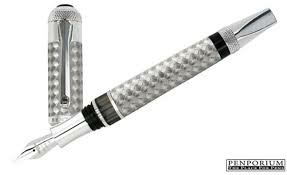pen: (14, 8, 277, 158)
